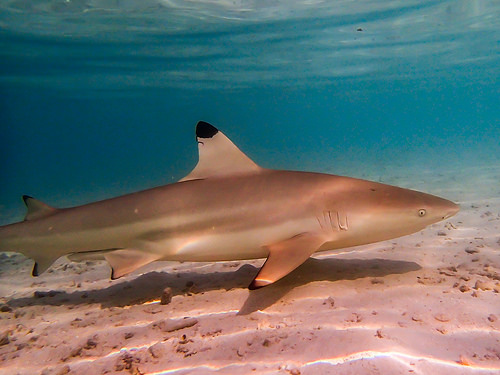shark: (7, 104, 468, 299)
